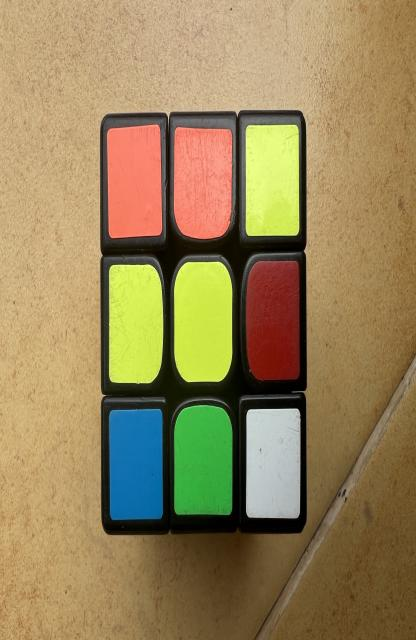Blue: (109, 408, 163, 520)
Green: (174, 405, 232, 515)
Orange: (174, 127, 232, 240), (107, 125, 162, 238)
Red: (246, 262, 300, 380)
White: (246, 408, 301, 518)
Yellow: (174, 262, 232, 382), (109, 263, 163, 383), (245, 125, 300, 237)
